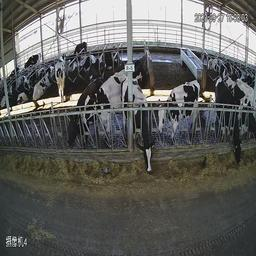cow: (79, 66, 129, 140), (123, 74, 154, 165), (156, 79, 195, 144), (214, 75, 242, 165), (67, 74, 106, 138), (225, 76, 255, 157), (85, 58, 103, 94), (33, 72, 53, 101), (97, 48, 121, 71), (55, 57, 67, 103), (69, 41, 86, 72), (17, 78, 32, 106), (23, 54, 43, 73)
